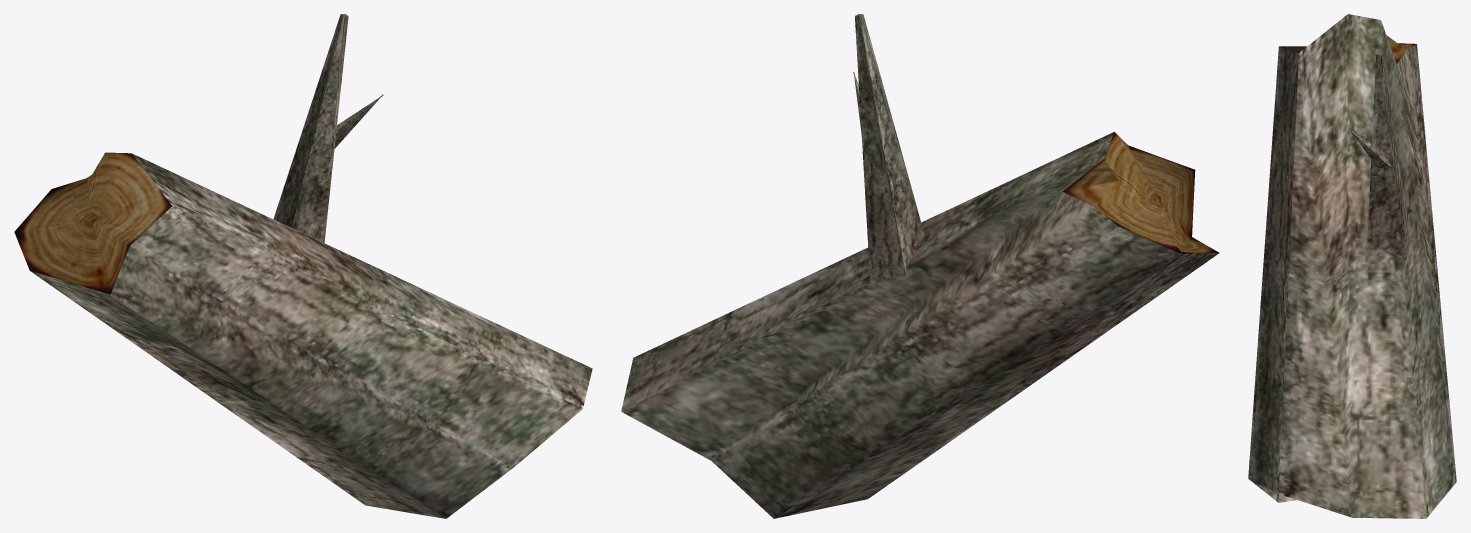
The model's file is gen_log03.fbx.
3 views of the same model, side by side, from view 1: azimuth 30°, elevation 25°; view 2: azimuth 150°, elevation 25°; view 3: azimuth 270°, elevation 25° (orthographic). The views are drawn at different scales.
Parts seen in each view (by area): view 1: lod_high; view 2: lod_high; view 3: lod_high.
Part boxes in pixels (x1=…): lod_high: x1=14, y1=14, x2=592, y2=518; lod_high: x1=621, y1=14, x2=1219, y2=518; lod_high: x1=1248, y1=14, x2=1456, y2=518.
Size of the model in its own units: 671 by 548 by 237.
Materials: 1 (1 with a texture image).
